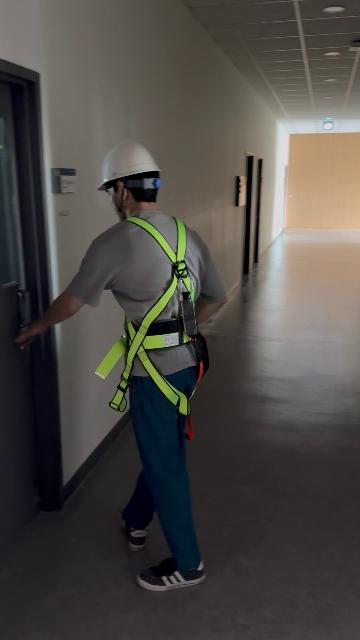helmet_worn: (96, 140, 163, 191)
shoe_not_worn: (136, 557, 206, 590), (120, 516, 147, 552)
vest_worn: (97, 219, 203, 416)
